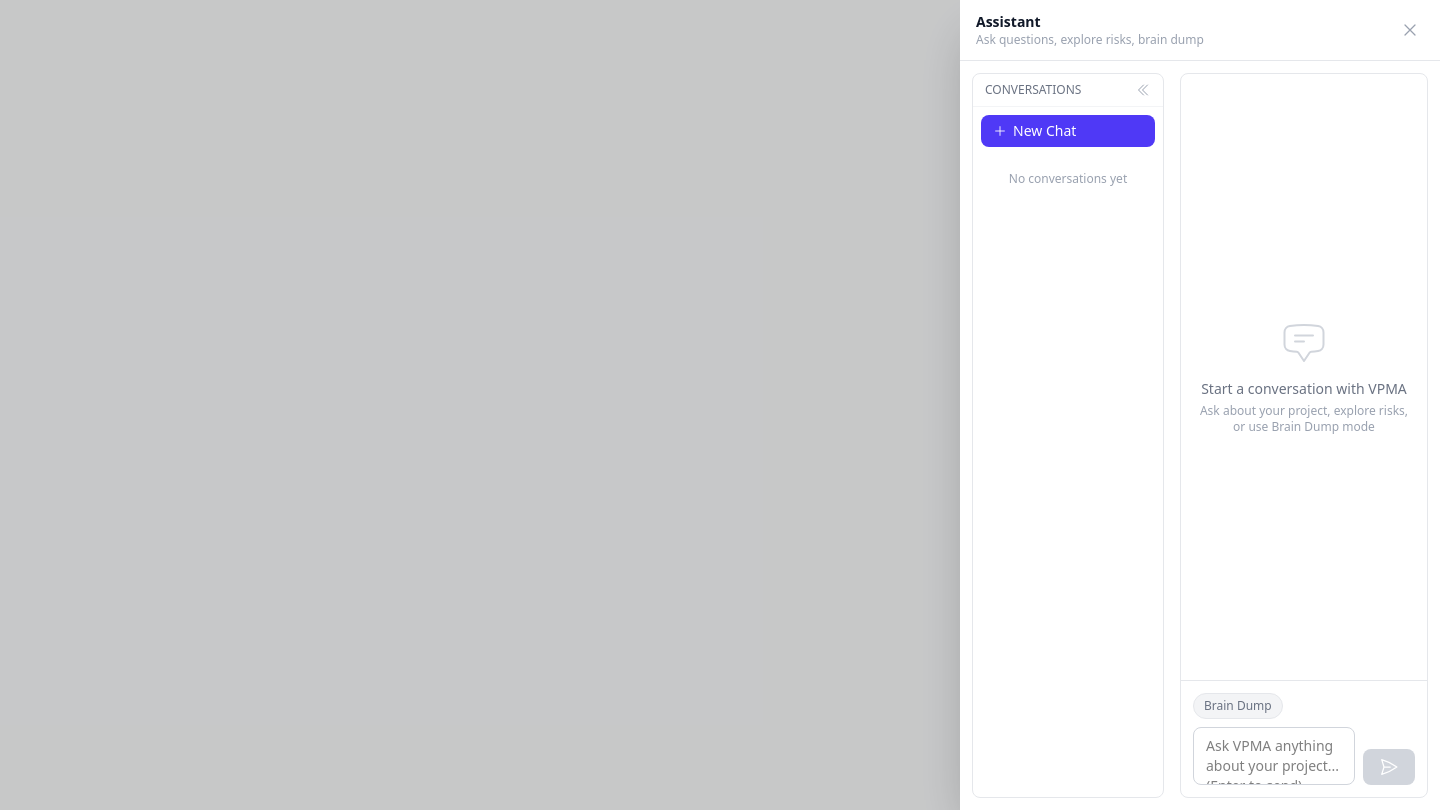
Scenario: Chat › sends a message and displays response
Type "What are the risks?" into the text box with placeholder "Ask VPMA anything about your project... (Enter to send)" at (1274, 756), box [1193,727,1355,785]
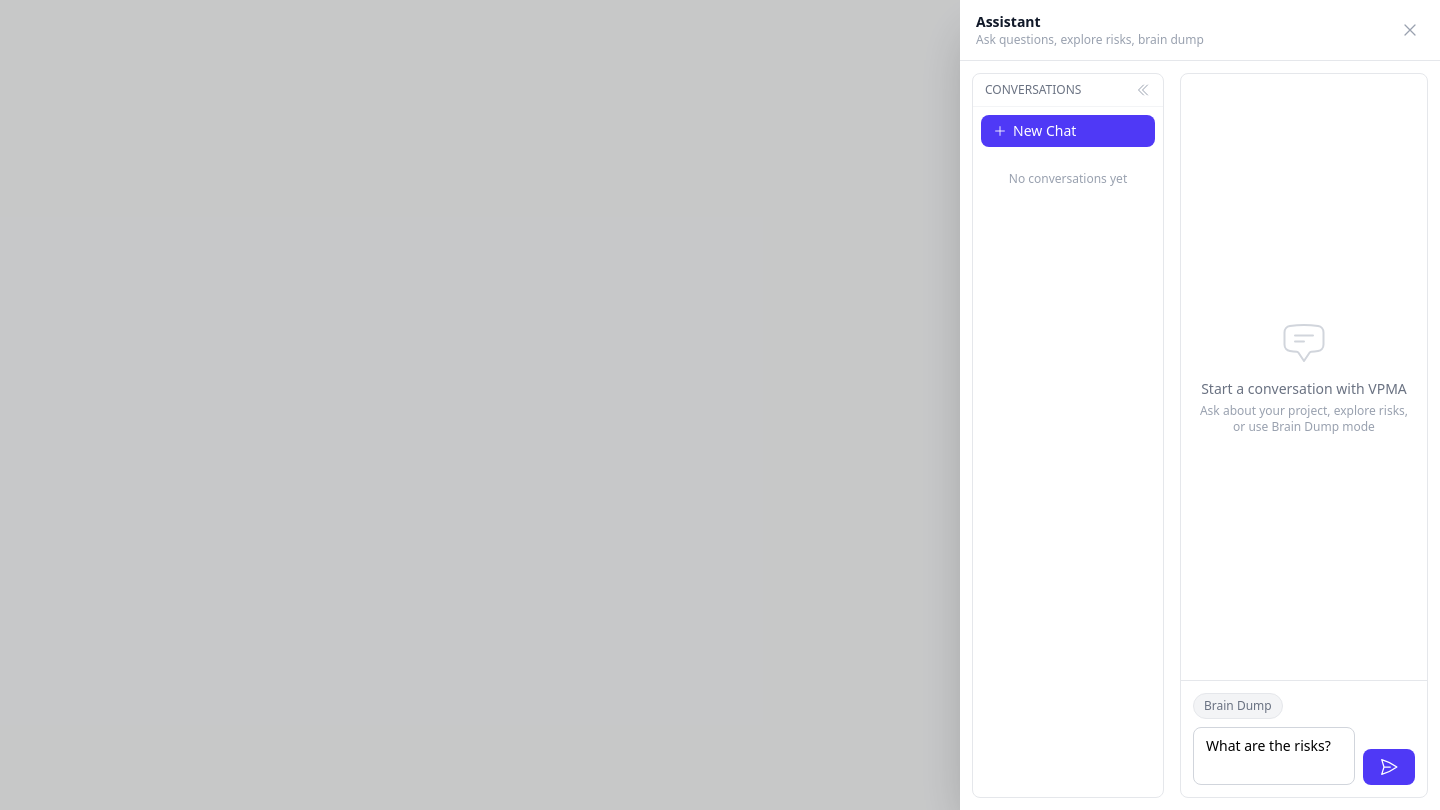
Press Enter in the text box with placeholder "Ask VPMA anything about your project... (Enter to send)", box [1193,727,1355,785]
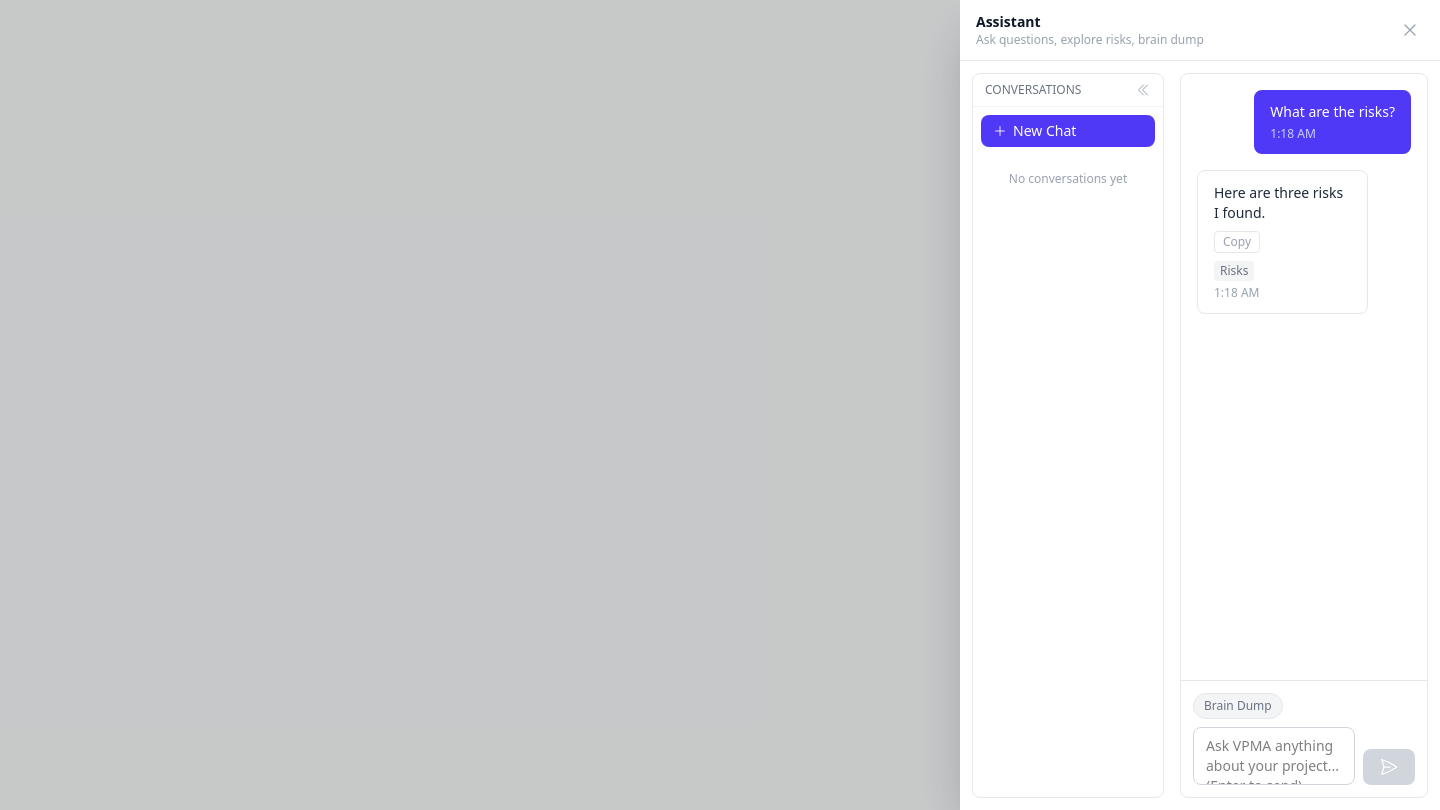
Now the text "Here are three risks I found." is shown, box [1214,183,1351,223]
